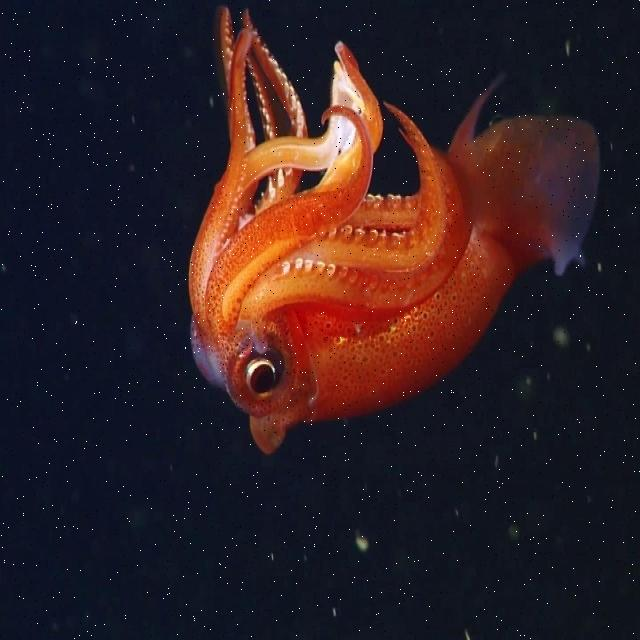reefs: (187, 2, 601, 454)
